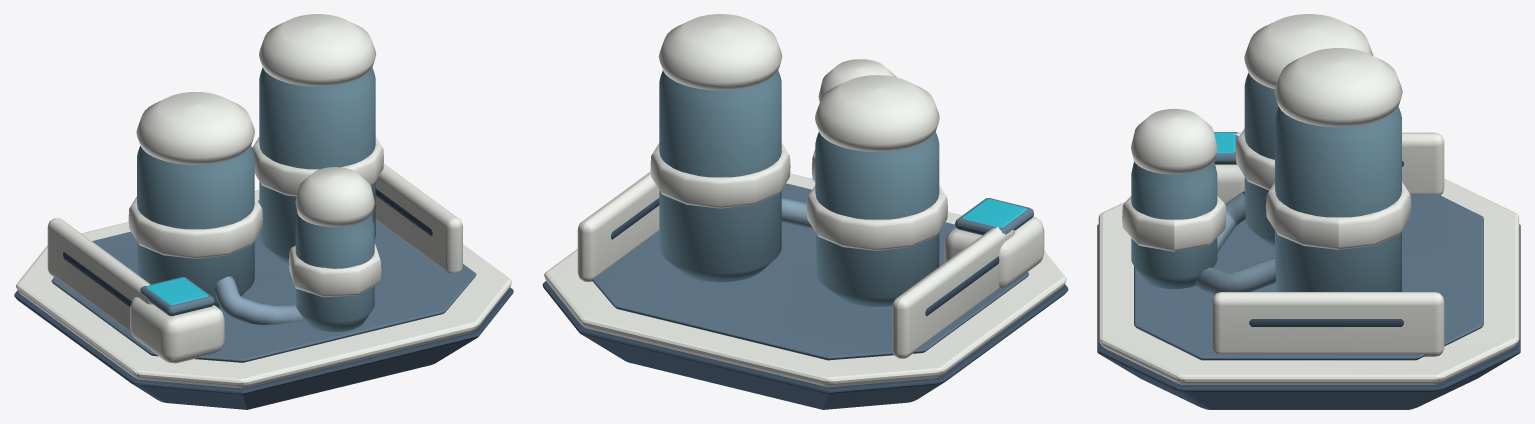
Rendered from heavy_element_refinery_lv3.glb.
The picture shows the model from 3 angles, left to right: view 1: azimuth 30°, elevation 25°; view 2: azimuth 150°, elevation 25°; view 3: azimuth 270°, elevation 25°; orthographic projection. The views are drawn at different scales.
Visible parts, largest first — view 1: Structure; view 2: Structure; view 3: Structure.
Part boxes in pixels (bbox=[...]): Structure: bbox=[14, 14, 513, 409]; Structure: bbox=[542, 14, 1068, 409]; Structure: bbox=[1097, 14, 1520, 409].
Size of the model in its own units: 6.81 by 4.8 by 6.01.
